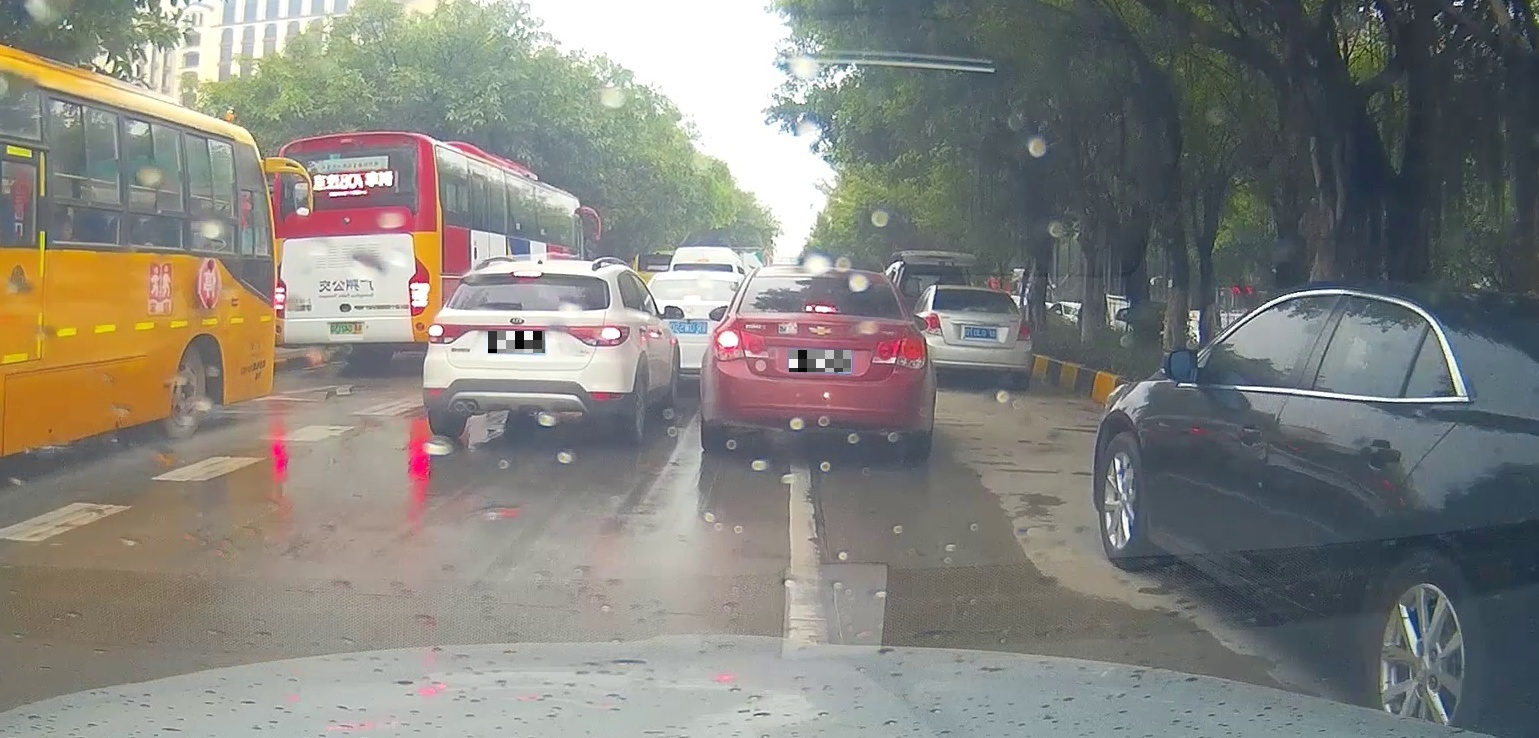L_light: (712, 327, 769, 361), (427, 323, 472, 344)
R_light: (870, 335, 927, 369), (571, 325, 630, 347)
T_light: (803, 304, 837, 313), (514, 272, 541, 277)
day-brake: (706, 270, 931, 454), (421, 261, 633, 440)
plate_1: (488, 331, 545, 353)
plate_2: (789, 350, 851, 372)
